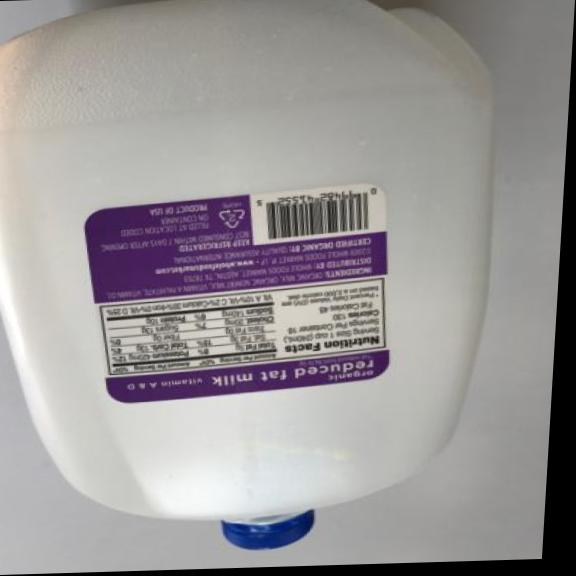Plastik: (0, 0, 506, 560)
